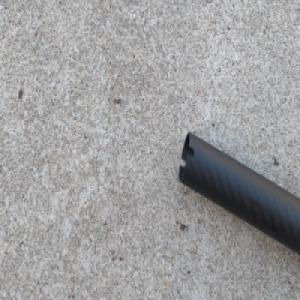LuggagePart: (177, 130, 300, 261)
